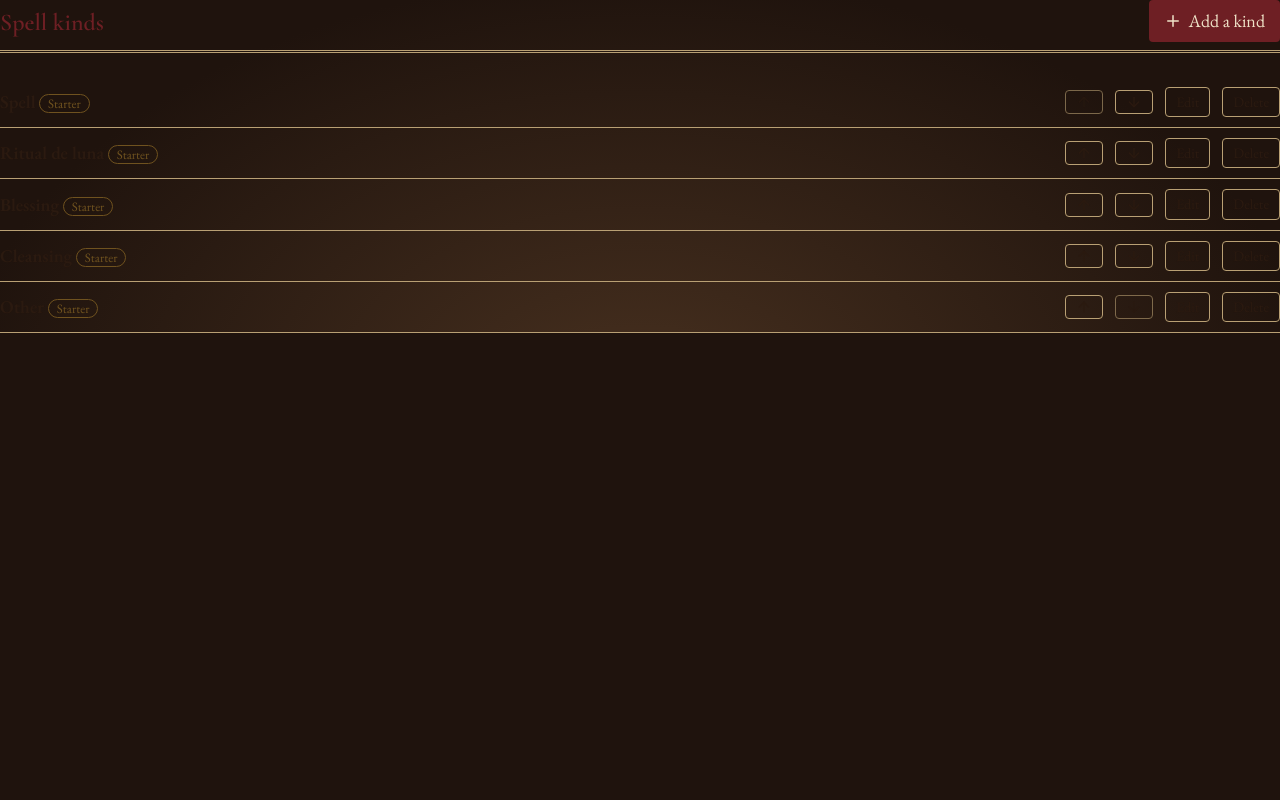
SpellKinds › shows Spanish pack names and prefills the dialog with them
Click the button "Edit" in the row of "Ritual de luna".
click(1188, 153)  # box left=1165, top=138, right=1210, bottom=168
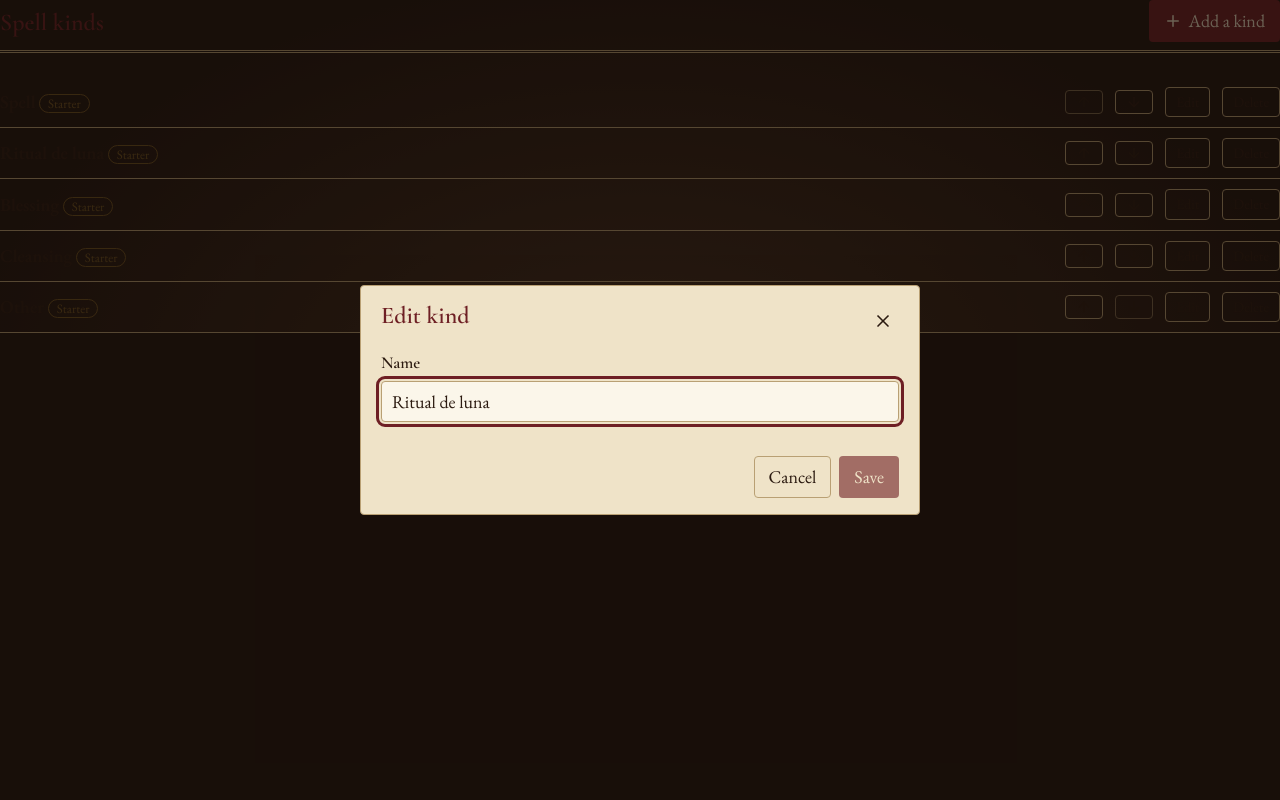
Check: the field labelled "Name" holds "Ritual de luna", box left=381, top=380, right=899, bottom=422
